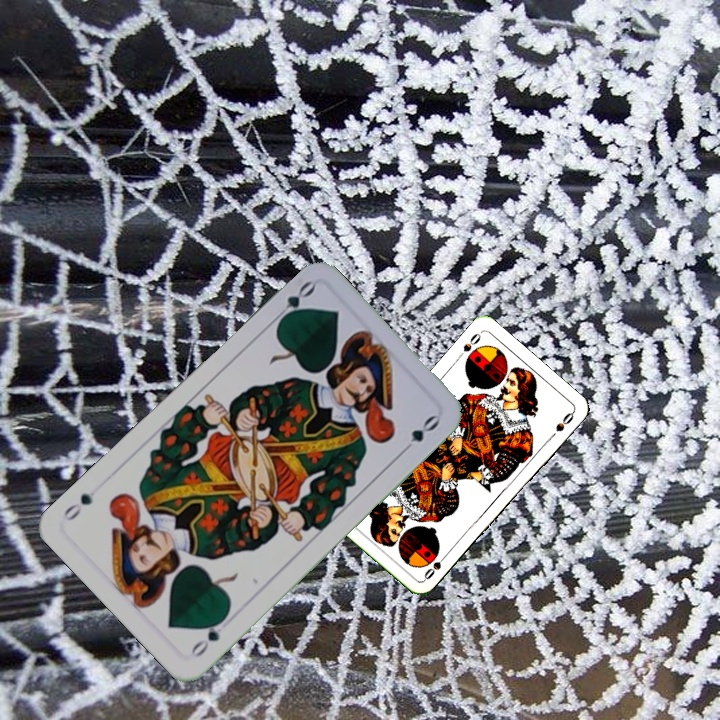GO: (269, 277, 318, 328), (186, 611, 230, 661)
SO: (453, 328, 484, 362), (420, 549, 451, 582)
